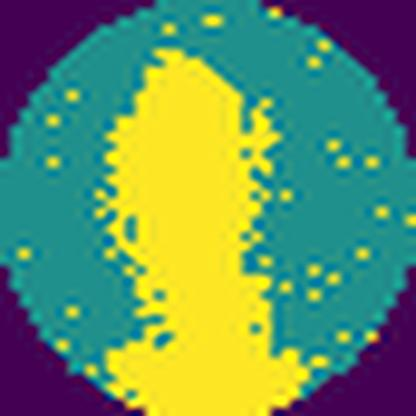Loc: (94, 40, 308, 416)
